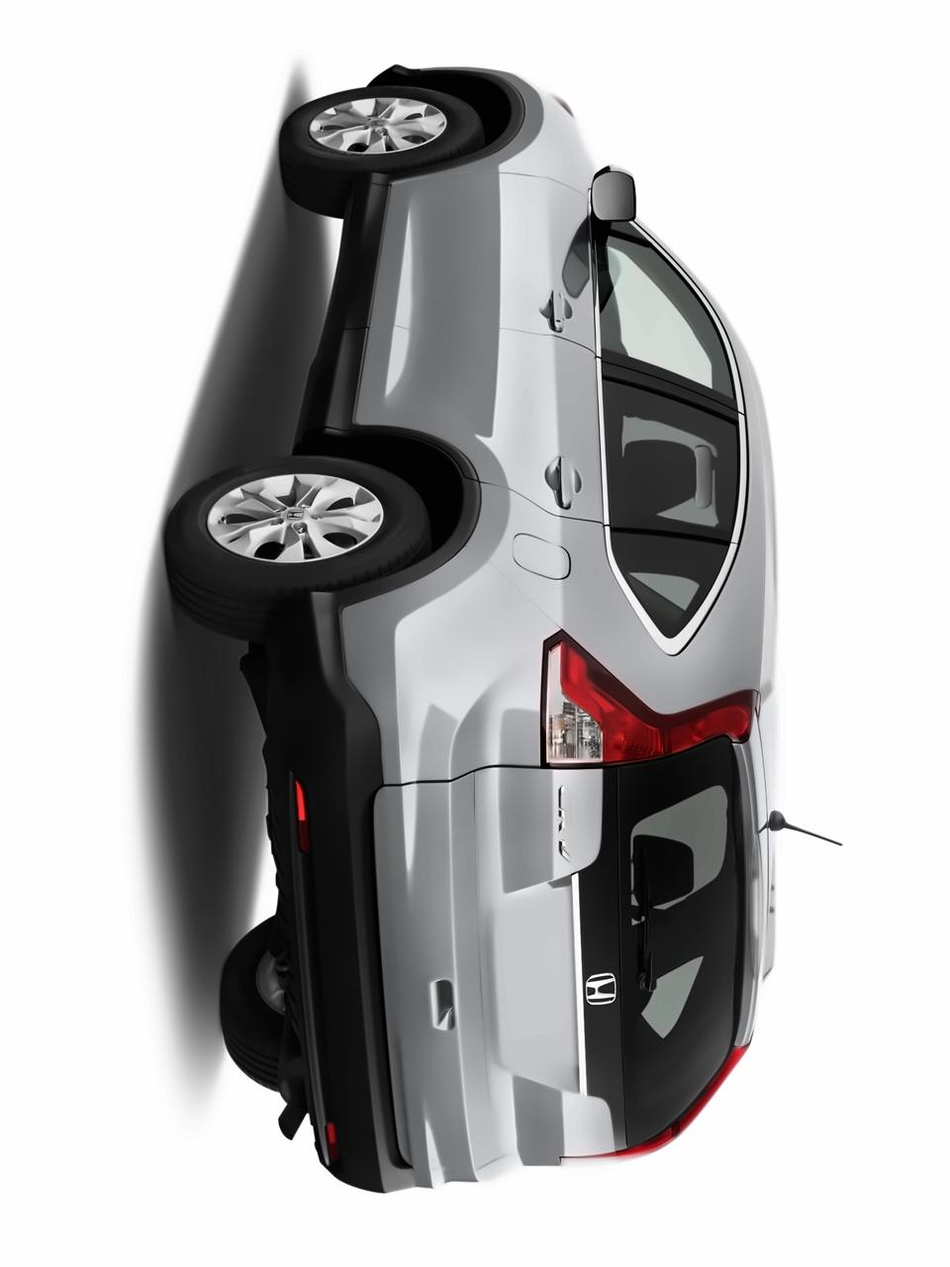Car boot: (374, 751, 779, 1200)
Fender - -F-L-: (344, 66, 638, 193)
Fender - -R-L-: (196, 424, 777, 747)
Passenger-s door - -F-L-: (273, 163, 800, 404)
Passenger-s door - -R-L-: (263, 313, 797, 564)
Rear bumper: (244, 580, 447, 1210)
Rear light - -L-: (533, 628, 763, 779)
Side bumper - -L-: (275, 163, 457, 468)
Side mirror - -L-: (574, 157, 642, 256)
